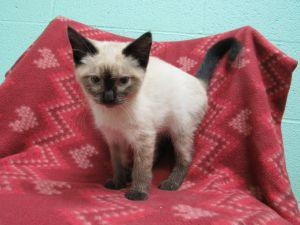siamese: (65, 23, 156, 113)
